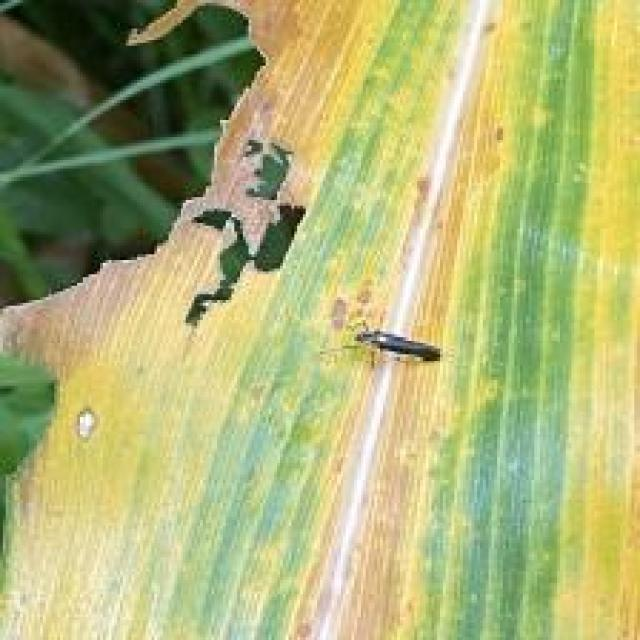Plaga: (331, 305, 474, 400)
